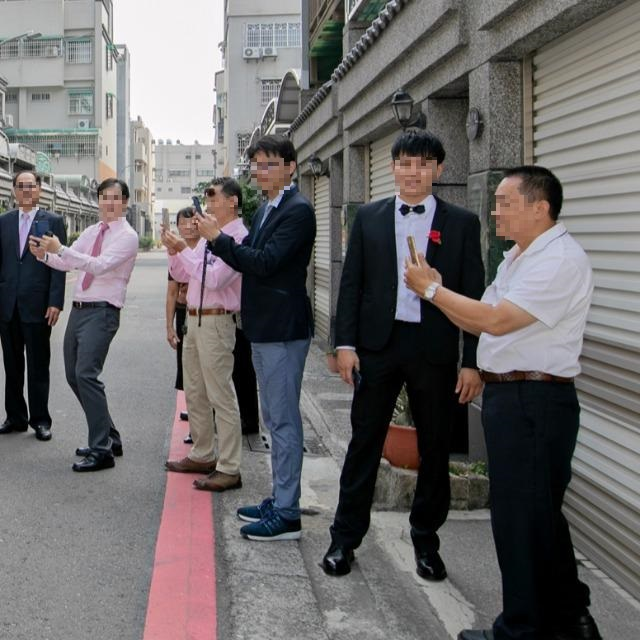NoHelmet: (488, 162, 564, 240), (390, 126, 445, 195), (246, 132, 297, 196), (92, 178, 130, 219)
NoVest: (350, 199, 483, 355), (235, 199, 318, 337), (66, 221, 140, 313)
